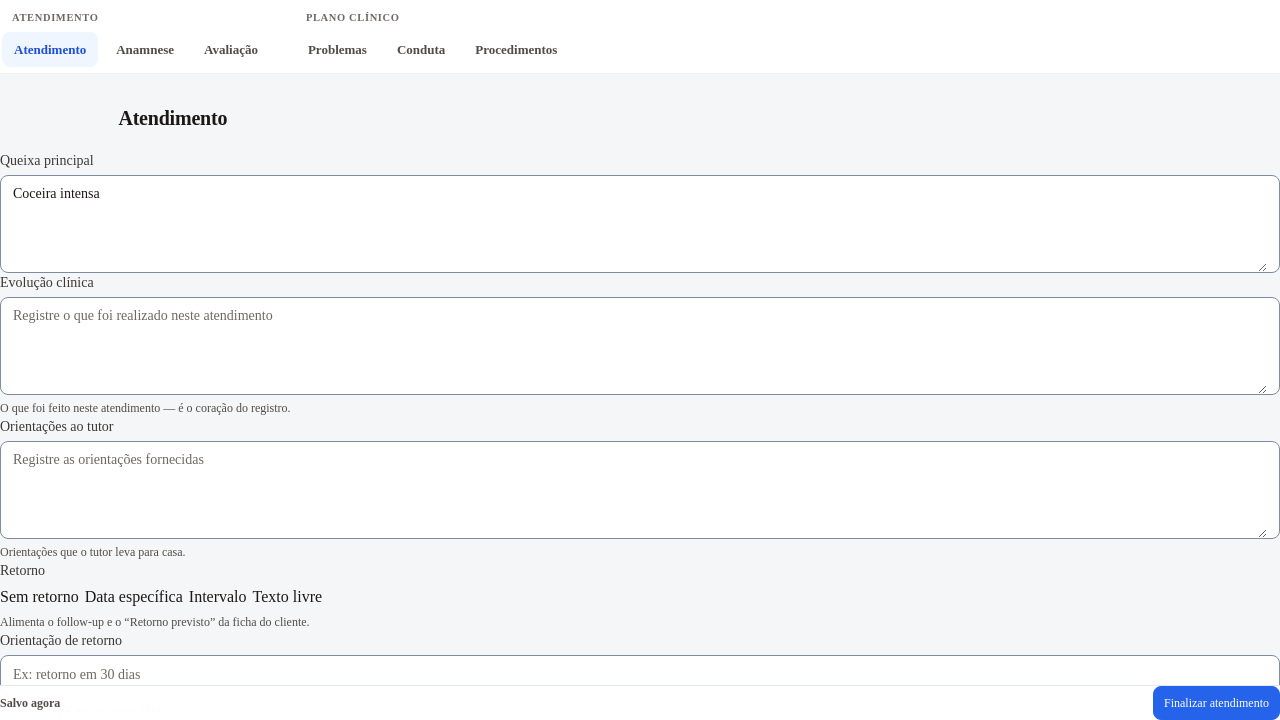
Test case: Rodapé persistente › o CTA do rodapé abre a MESMA revisão de finalização (sem finalizar sozinho)
Click the button "Finalizar atendimento" at (1216, 703), box [1153, 686, 1279, 719]
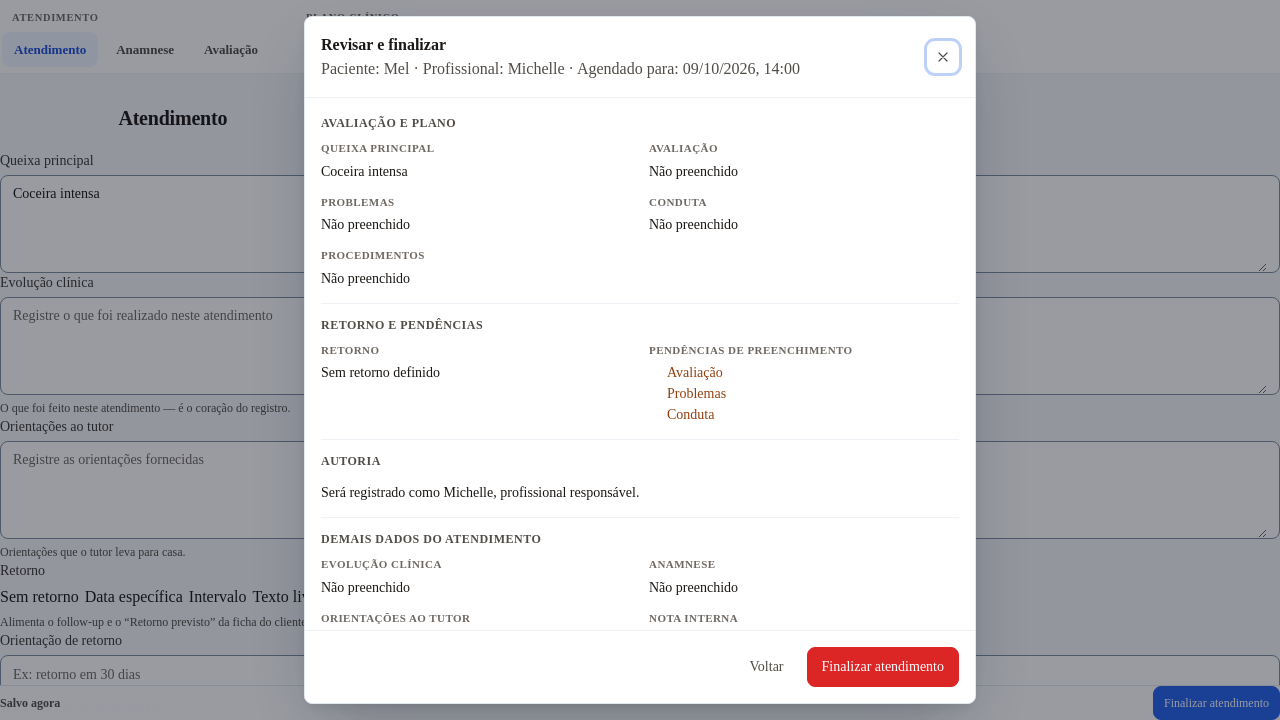
Now the dialog "Revisar e finalizar" is shown, box [304, 16, 976, 704]
